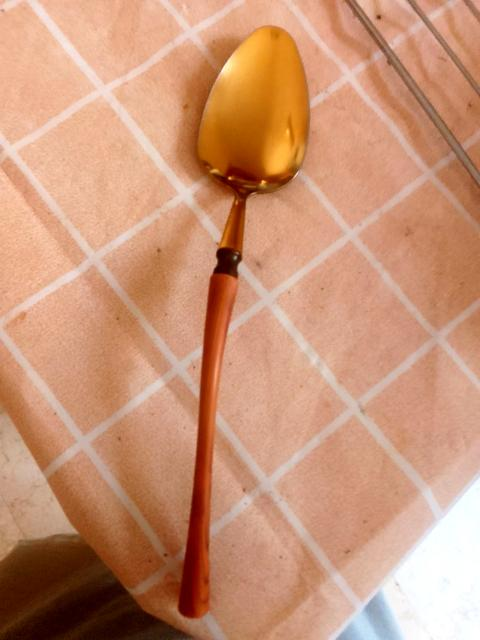Spoon: (179, 26, 309, 617)
